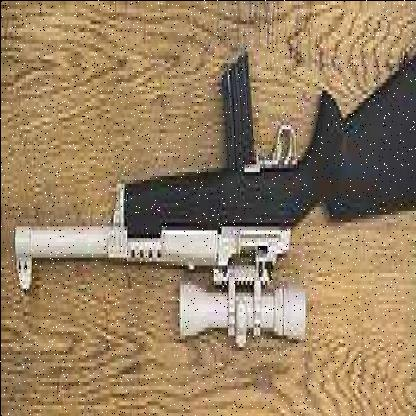rifle: (5, 27, 416, 369)
